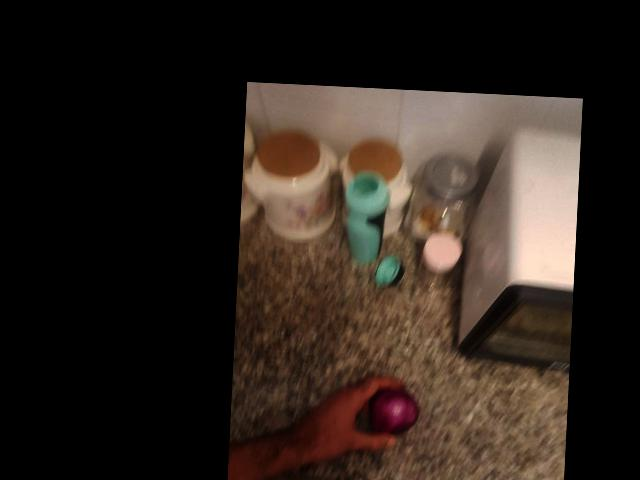onion: (532, 242, 605, 311)
